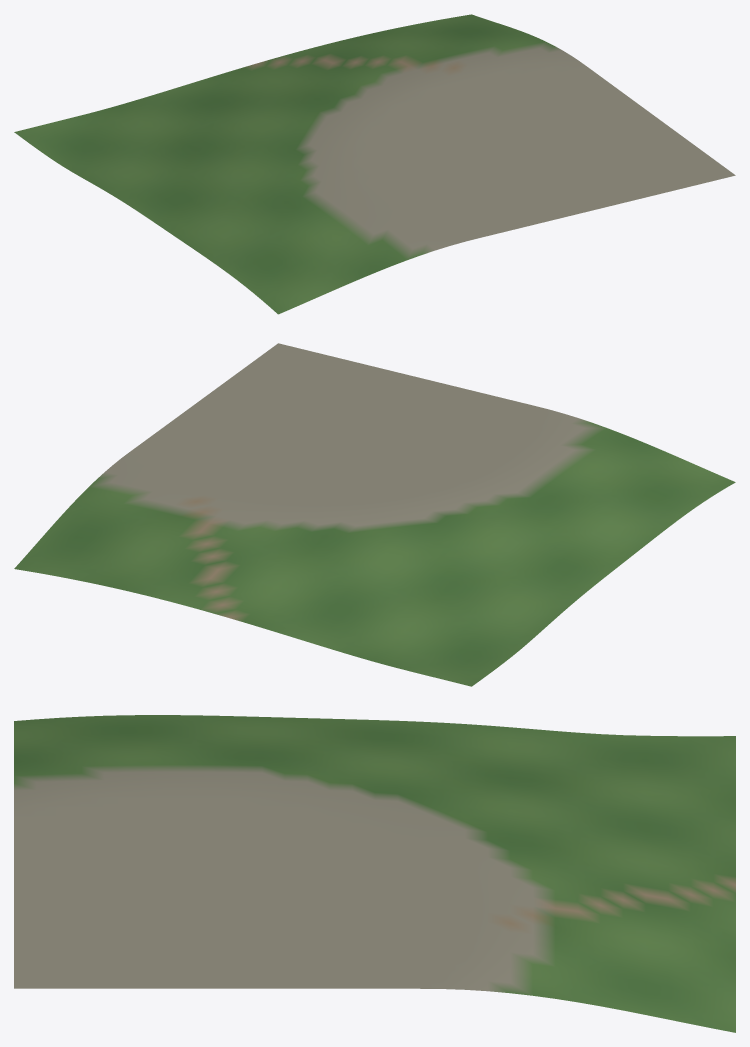
The model's file is chunk_10_10.glb.
3 renders of one model, top to bottom at view 1: azimuth 30°, elevation 25°; view 2: azimuth 150°, elevation 25°; view 3: azimuth 270°, elevation 25°, orthographic. The views are drawn at different scales.
Size of the model in its own units: 512 by 41.12 by 512.
